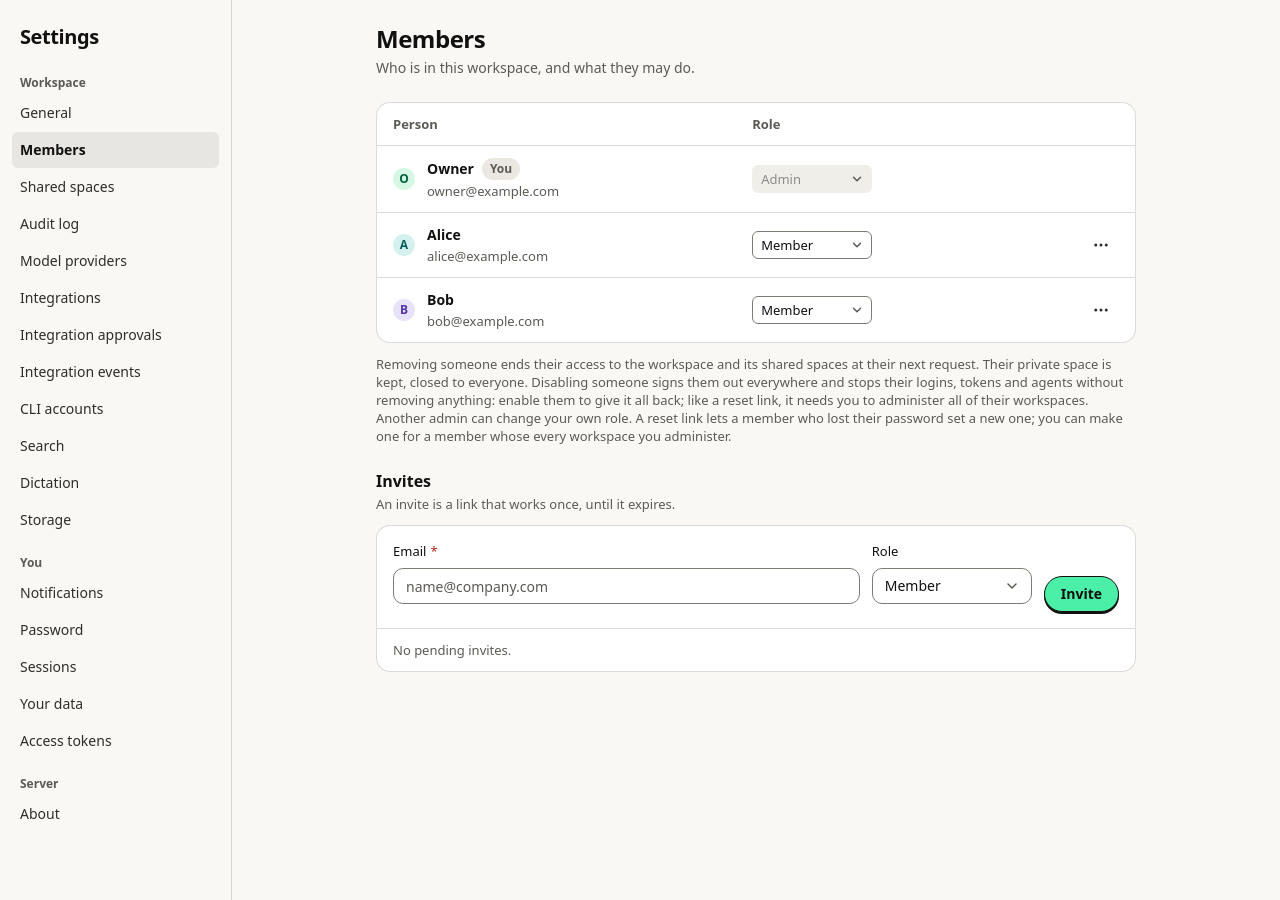
Test: a refused clear says why
Expected: the text "alice@example.com" is shown, [427, 247, 548, 265]
Click the button named "More actions for Alice". click: (1101, 245)
box: [1083, 227, 1119, 263]
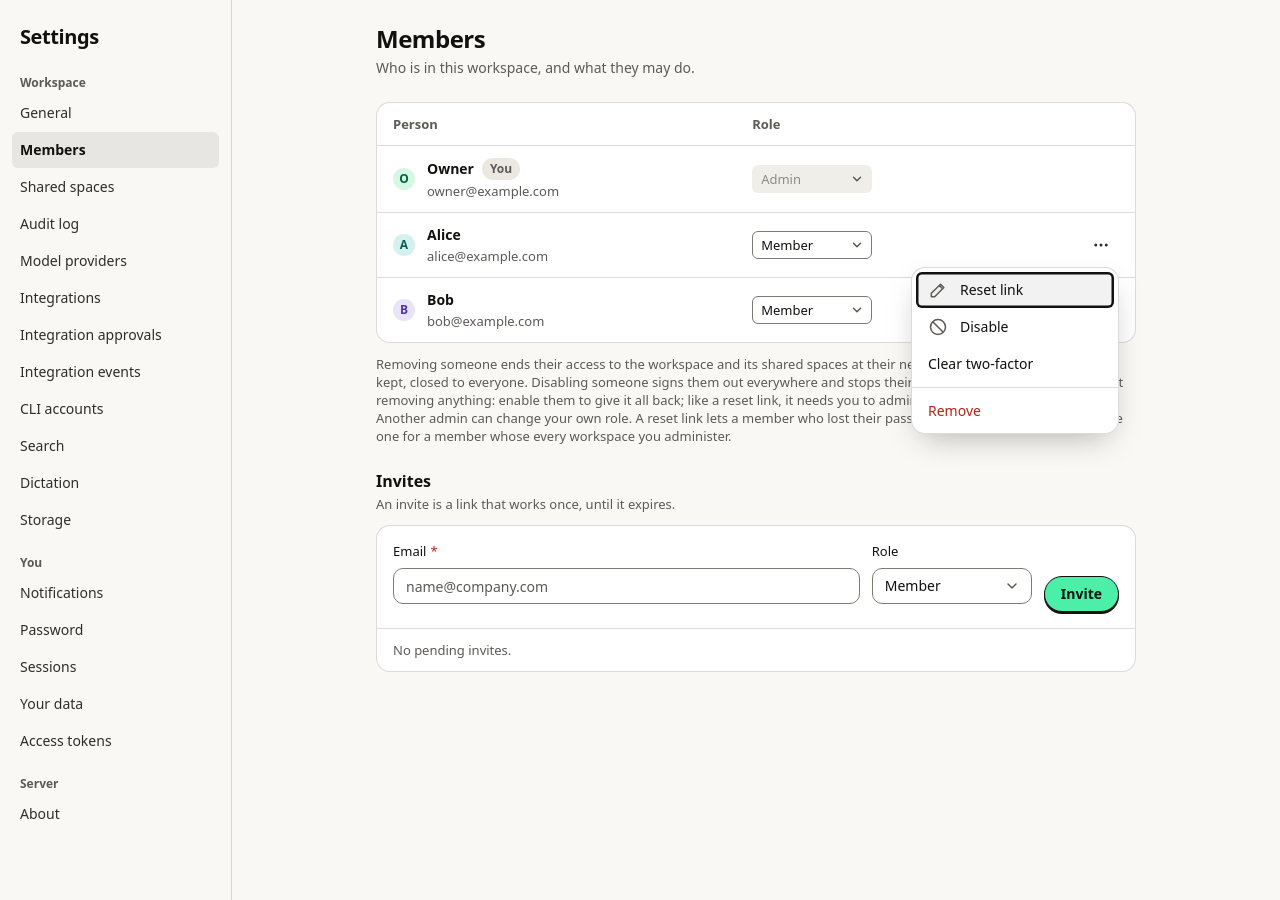
Click the menu item "Clear two-factor". click: (1015, 364)
box: [916, 346, 1114, 382]
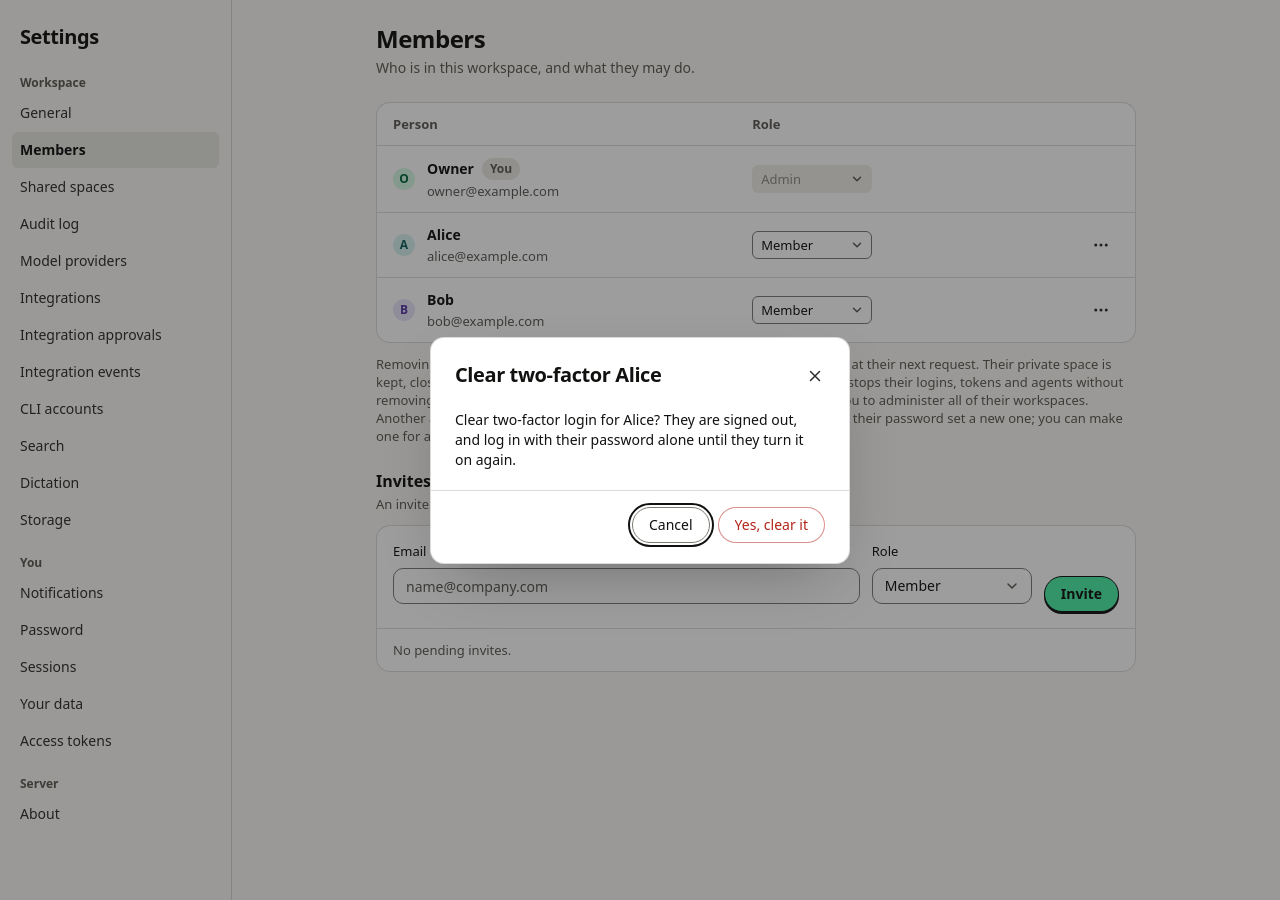
Click the button "Yes, clear it". click: (771, 524)
box: [718, 506, 825, 542]
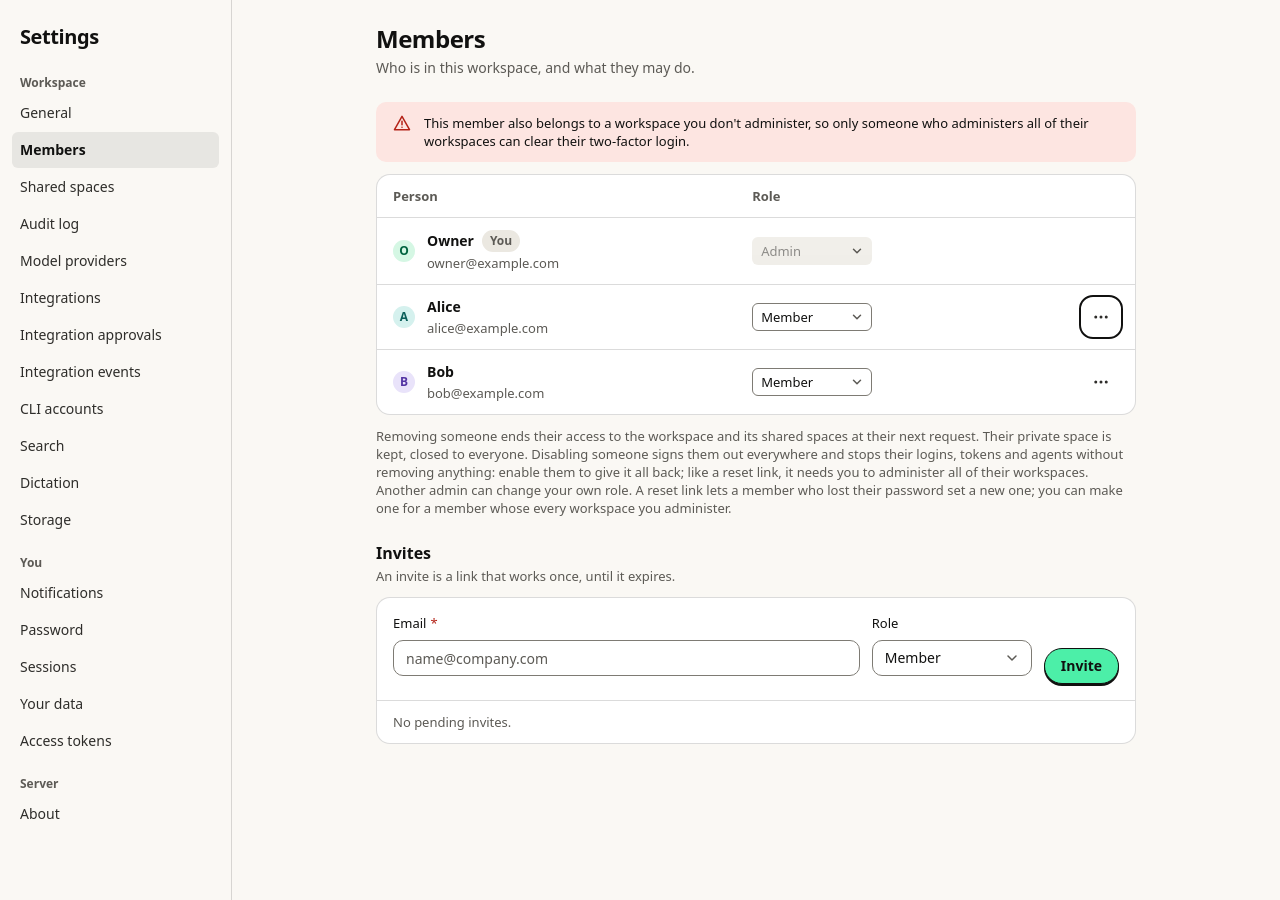
Result: the message shows "you don't administer" at [424, 114, 1089, 150]
